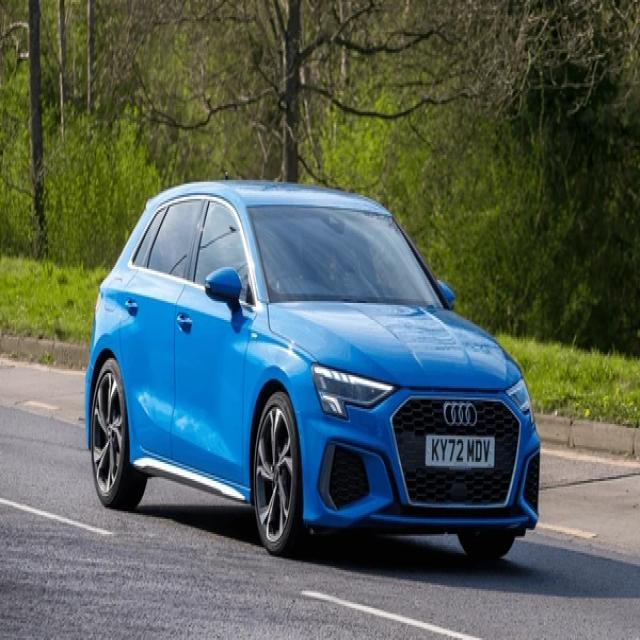audi: (443, 402, 476, 427)
